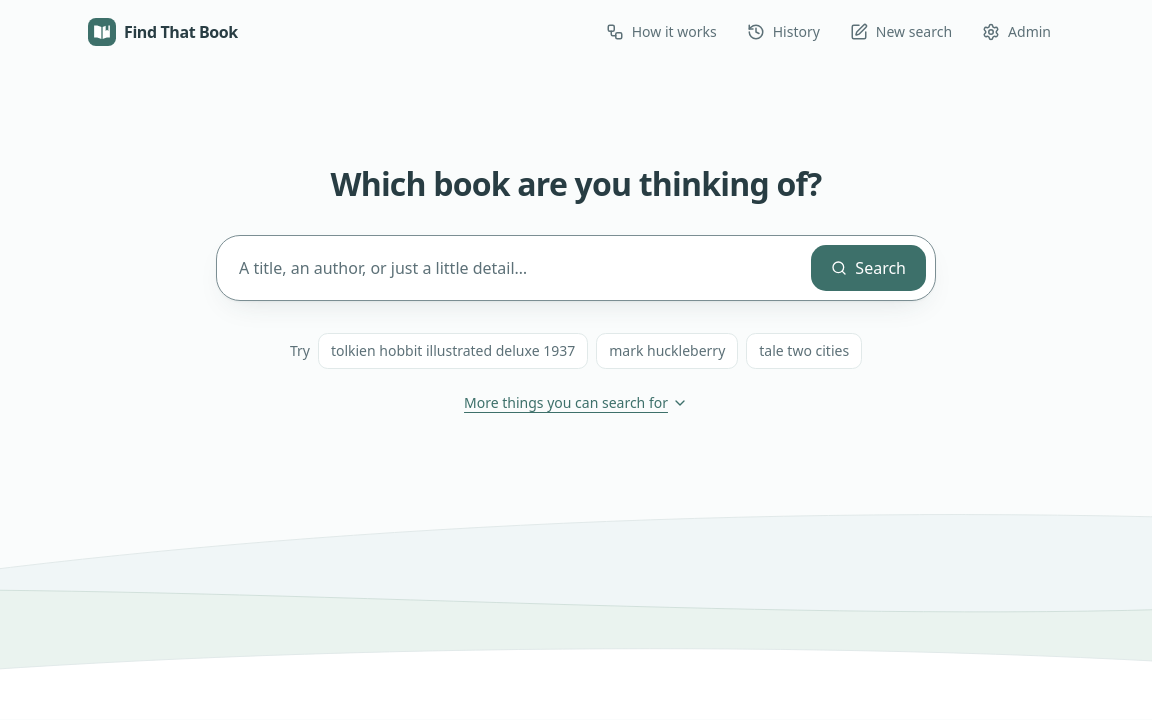
Test: suggestions › clicking a suggestion fills the composer without searching; missing author and year are left out, not invented
Type "anna" into the dropdown named "Describe the book" at (518, 268), box left=233, top=244, right=802, bottom=292
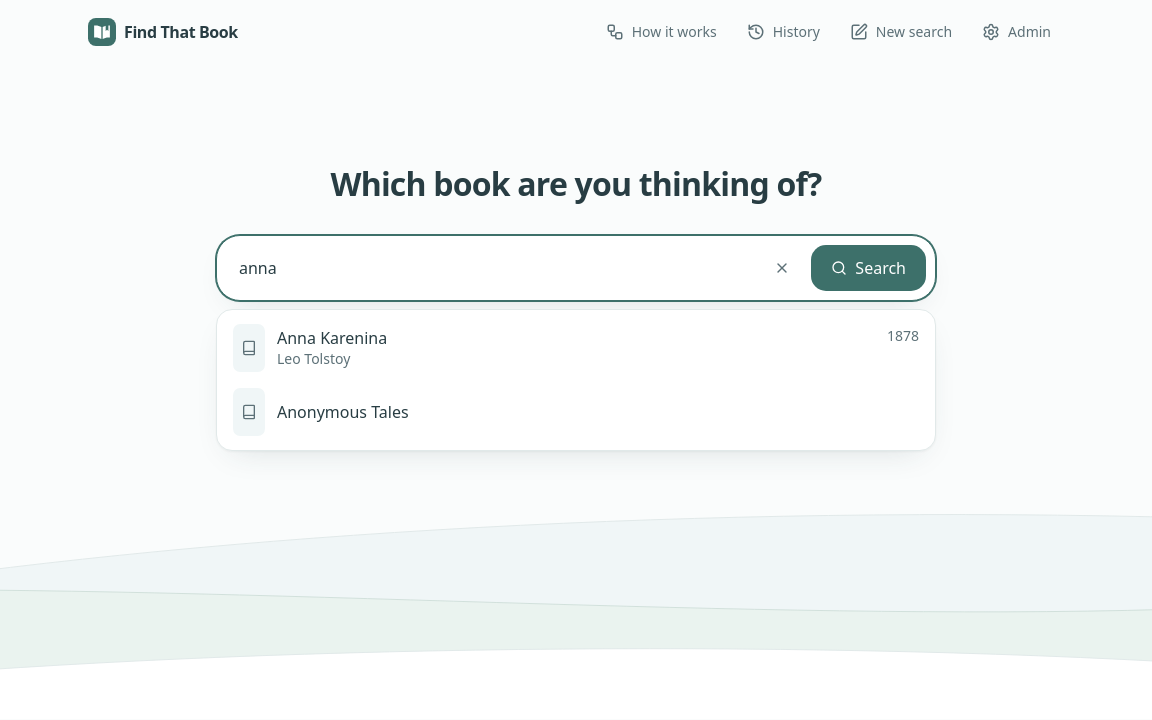
Now the option named "Anna Karenina by Leo Tolstoy, first published 1878" is shown, box left=223, top=316, right=929, bottom=380
Now the option "Anonymous Tales" is shown
Click the option "Anonymous Tales" at (321, 412), box left=233, top=388, right=409, bottom=436
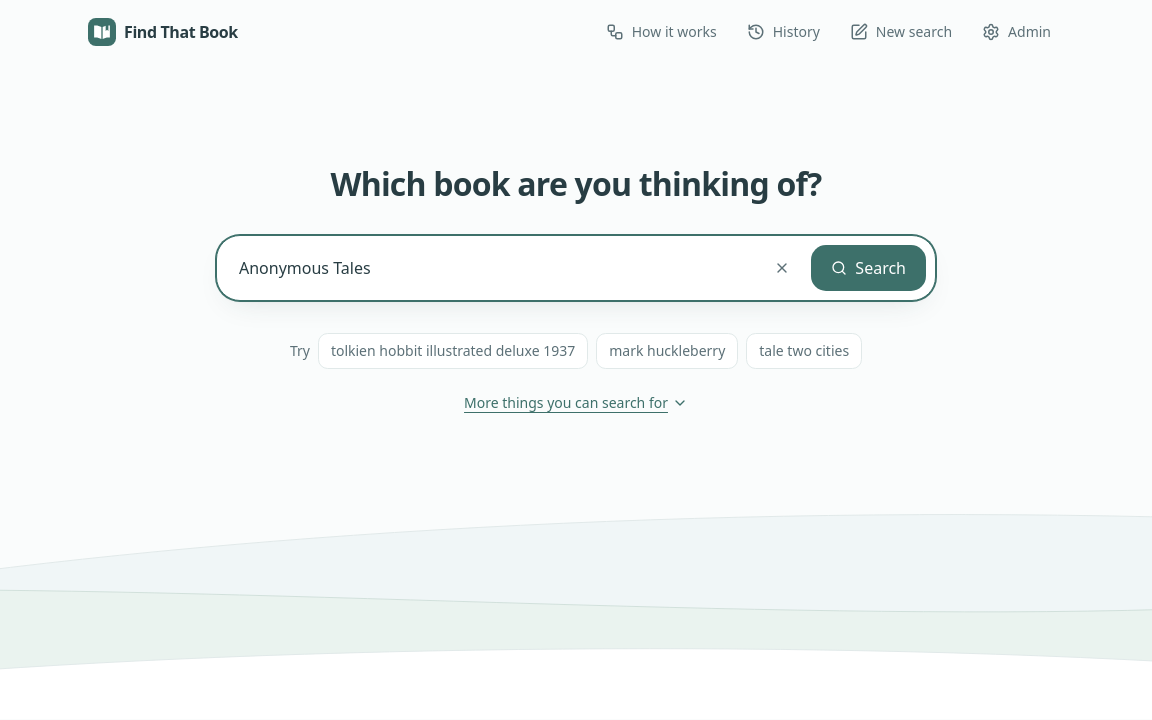
Now the dropdown named "Describe the book" holds "Anonymous Tales", box left=233, top=244, right=754, bottom=292
